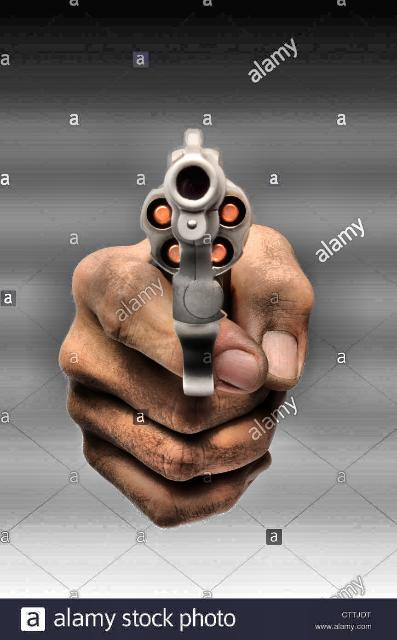pistol: (132, 128, 253, 408)
